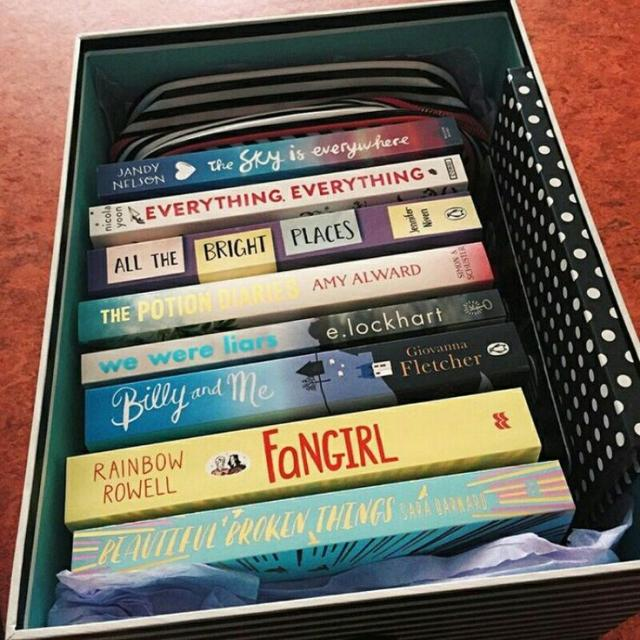book: (66, 385, 540, 523), (72, 459, 575, 581), (85, 321, 533, 447), (78, 242, 494, 344), (81, 289, 506, 383), (88, 193, 481, 291), (90, 155, 467, 237), (96, 114, 463, 196)
